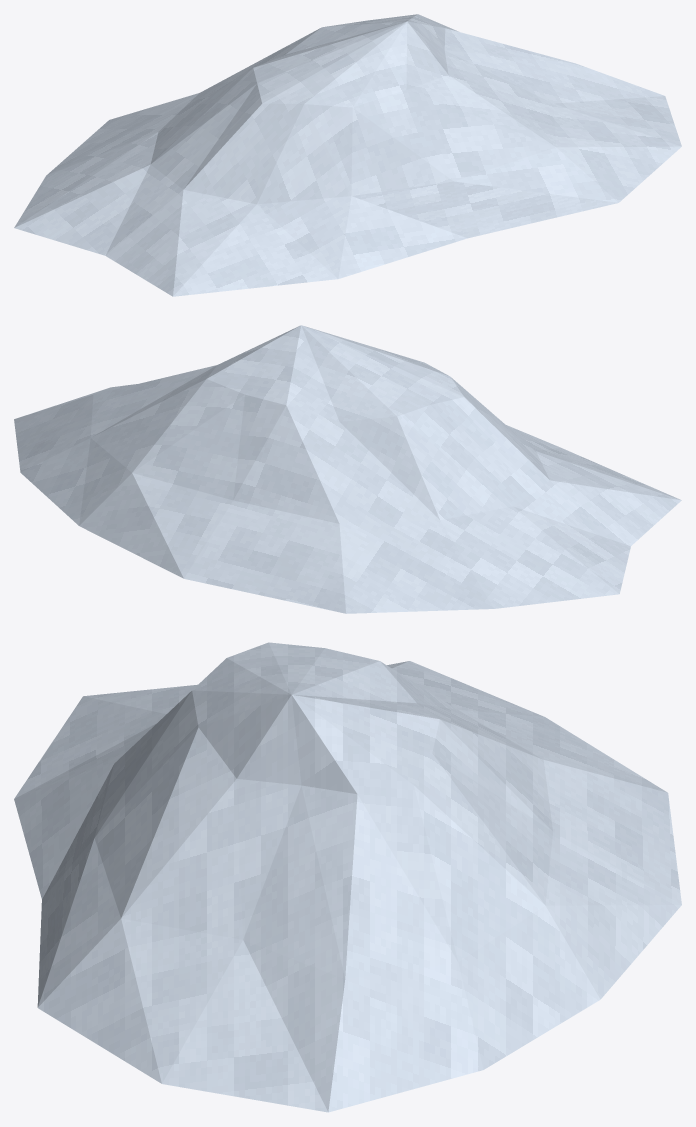
The model's file is drift_medium.glb.
The picture shows the model from 3 angles, top to bottom: view 1: azimuth 30°, elevation 25°; view 2: azimuth 150°, elevation 25°; view 3: azimuth 270°, elevation 25°; orthographic projection. The views are drawn at different scales.
Visible parts, largest first — view 1: drift_medium; view 2: drift_medium; view 3: drift_medium.
Part boxes in pixels (<box>): drift_medium: <box>14,14,681,296</box>; drift_medium: <box>14,325,681,613</box>; drift_medium: <box>14,642,681,1112</box>.
Size of the model in its own units: 2.4 by 0.55 by 1.5.
Materials: 1 (1 with a texture image).
